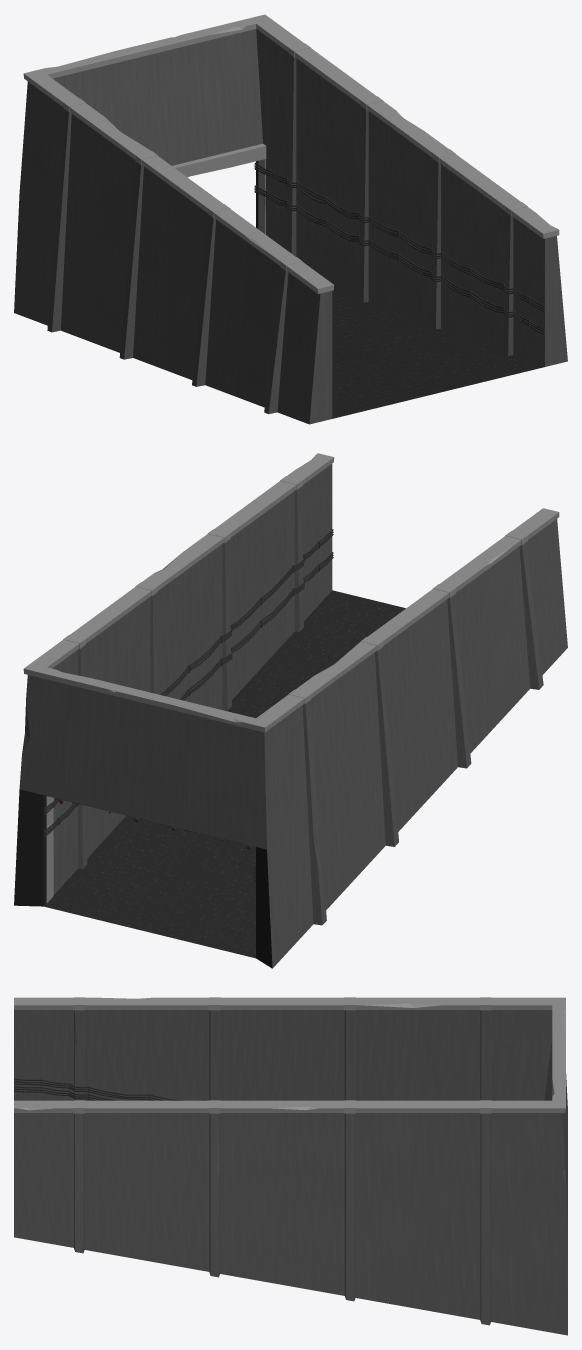
The model's file is SW_ENV_OpenTunnelMouth_TrackRise_Double_FF.fbx.
3 views of the same model, one above another, from view 1: azimuth 30°, elevation 25°; view 2: azimuth 150°, elevation 25°; view 3: azimuth 270°, elevation 25° (orthographic). The views are drawn at different scales.
Parts seen in each view (by area): view 1: SW_ENV_OpenTunnelMouth_TrackRise_Double_FF; view 2: SW_ENV_OpenTunnelMouth_TrackRise_Double_FF; view 3: SW_ENV_OpenTunnelMouth_TrackRise_Double_FF.
Part boxes in pixels (left/top/right/bottom): SW_ENV_OpenTunnelMouth_TrackRise_Double_FF: left=14, top=14, right=567, bottom=424; SW_ENV_OpenTunnelMouth_TrackRise_Double_FF: left=14, top=453, right=567, bottom=968; SW_ENV_OpenTunnelMouth_TrackRise_Double_FF: left=14, top=997, right=567, bottom=1335.
Size of the model in its own units: 1099 by 911 by 2045.
